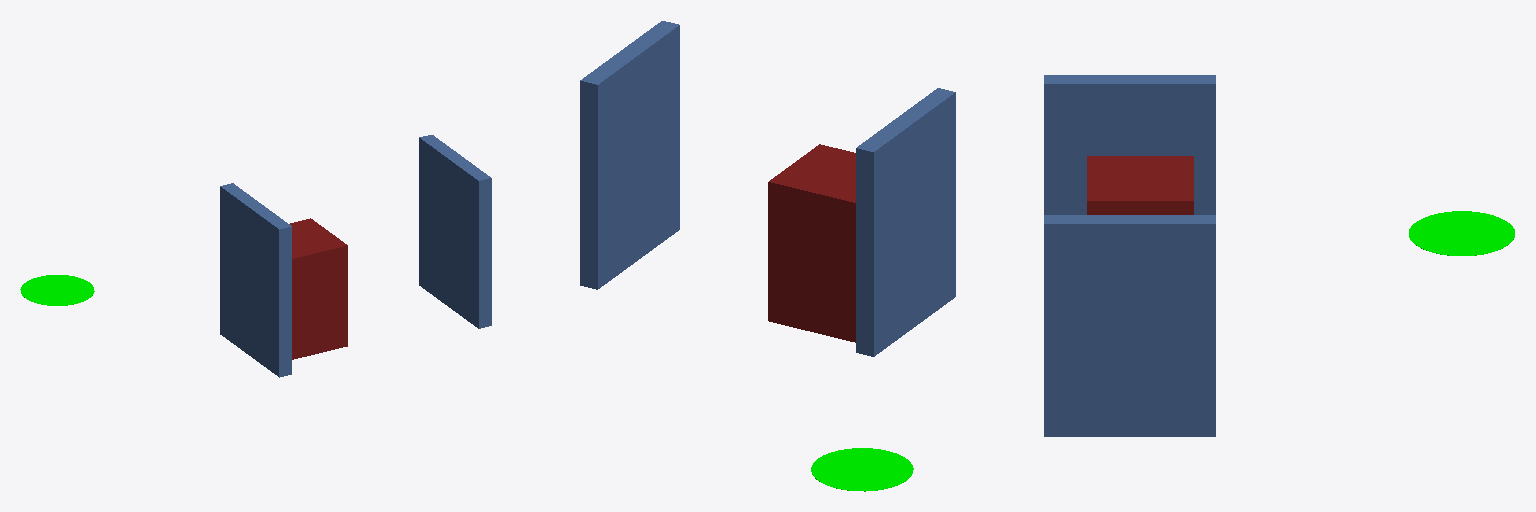
URDF robot description (room2):
<robot name="room2">
    <link name="base_link"/>

    <link name="room">
      <visual>
        <geometry>
          <mesh filename="[local-path]/rb_ws/robowflex/robowflex_dart/include/io/envs/room2/meshes/room.dae" scale=" 0.4 0.4 0.3"/>
        </geometry>
        <origin rpy="0 0 0" xyz="0 0 0"/>
      <material name="">
        <color rgba="0.94901960784 0.94901960784 0.94901960784 1"/>
      </material>
      </visual>

      <collision>
        <geometry>
          <mesh filename="[local-path]/rb_ws/robowflex/robowflex_dart/include/io/envs/room2/meshes/room.dae" scale=" 0.4 0.4 0.3"/>
        </geometry>
        <origin rpy="0 0 0" xyz="0 0 0"/>       
       </collision>
    </link>


     <link name="link_0_joint_0">
      <visual>
        <geometry>
          <box size="0.1 0.8 1.1"/>
        </geometry>
        <origin rpy="0 0 0" xyz="0.0 0.4 0"/>
        <material name="">
          <color rgba="0.349019 0.470588 0.650980 1.0"/>
      </material>
      </visual>
      <collision>
        <geometry>
          <box size="0.1 0.8 1.1"/>
        </geometry>
        <origin rpy="0 0 0" xyz="0.0 0.4 0"/>     
       </collision>
    </link>


  <link name="link_1_joint_0">
      <visual>
        <geometry>
          <box size="0.1 0.8 1.1"/>
        </geometry>
        <origin rpy="0 0 0" xyz="0.0 0.4 0"/>
        <material name="">
          <color rgba="0.349019 0.470588 0.650980 1.0"/>
      </material>
      </visual>
      <collision>
        <geometry>
          <box size="0.1 0.8 1.1"/>
        </geometry>
        <origin rpy="0 0 0" xyz="0.0 0.4 0"/>     
       </collision>
    </link>


    <link name="link_2_joint_0">
      <visual>
        <geometry>
          <box size="0.5 0.5 0.75"/>
        </geometry>
        <origin rpy="0 0 0" xyz="0 0 0"/>
          <material name="">
          <color rgba="0.541176 0.156862 0.156862 1.0"/>
      </material>
      </visual>
      <collision>
        <geometry>
          <box size="0.5 0.5 0.75"/>
        </geometry>
        <origin rpy="0 0 0" xyz="0 0 0"/>      
       </collision>
    </link>
    

<link name="cube1_y_axis"/>


<joint name="room_j" type="fixed">
    <origin rpy="0 0 -1.57" xyz="0 0 0.0"/>
    <parent link="base_link"/>
    <child link="room"/>
    <axis xyz="0 1 0"/>
  </joint>

   <joint name="link_0_joint_0" type="revolute">
      <origin rpy="0 0 0" xyz="1.5 -1.25 0.55"/>
      <parent link="base_link"/>
      <child link="link_0_joint_0"/>
      <axis xyz="0 0 1"/>
      <limit lower="0" upper="1.57" effort="0.05" velocity="1.57"/>
  </joint>

   <joint name="link_1_joint_0" type="revolute">
      <origin rpy="0 0 0" xyz="-0.05 -1.25 0.55"/>
      <parent link="base_link"/>
      <child link="link_1_joint_0"/>
      <axis xyz="0 0 1"/>
      <limit lower="0" upper="1.57" effort="0.05" velocity="1.57"/>
  </joint>


  <joint name="link_2_joint_0" type="prismatic">
      <origin rpy="0 0 0" xyz="0.3 -0.8 0.375"/>
      <parent link="base_link"/>
      <child link="cube1_y_axis"/>
      <axis xyz="0 1 0"/>
      <limit lower="-1.40" upper="2.00" effort="0.05" velocity="1.57"/>
  </joint>


  <joint name="link_2_joint_1" type="prismatic">
      <origin rpy="0 0 0" xyz="0 0 0"/>
      <parent link="cube1_y_axis"/>
      <child link="link_2_joint_0"/>
      <axis xyz="1 0 0"/>
      <limit lower="-1.5" upper="3.00" effort="0.05" velocity="1.57"/>
  </joint>

  <link name="goal">
  <visual>
         <origin xyz="0 0 0" rpy="0 0 0"/>
        <geometry>
          <cylinder radius="0.25" length="0.001"/>
        </geometry>
        <material name="">
          <color rgba="0 1 0 1.0"/>
        </material>
      </visual>
</link>

<joint name="goal" type="fixed">
  <origin rpy="0 0 0" xyz="-0.7 0.7 0"/>
  <parent link="base_link"/>
    <child link="goal"/>
</joint>



</robot>

--- Facts derived from the render (not from the file) ---
Views: 3 orthographic renders of the robot side by side, from view 1: azimuth 30°, elevation 25°; view 2: azimuth 150°, elevation 25°; view 3: azimuth 270°, elevation 25°.
Robot: room2 — 7 links, 6 joints (2 revolute, 2 prismatic, 2 fixed); root link base_link; default pose: all joints at 0.
Links seen in each view (by area): view 1: link_0_joint_0, link_1_joint_0, link_2_joint_0, goal; view 2: link_0_joint_0, link_1_joint_0, link_2_joint_0, goal; view 3: link_0_joint_0, link_1_joint_0, link_2_joint_0, goal.
Link boxes in pixels (x1,y1,x2,y2): link_0_joint_0: (419, 135, 491, 328); link_1_joint_0: (220, 183, 291, 377); link_2_joint_0: (290, 218, 347, 359); goal: (20, 275, 94, 305); link_0_joint_0: (580, 21, 679, 289); link_1_joint_0: (856, 88, 955, 356); link_2_joint_0: (768, 144, 855, 342); goal: (811, 448, 913, 491); link_0_joint_0: (1044, 215, 1215, 436); link_1_joint_0: (1044, 75, 1215, 214); link_2_joint_0: (1087, 156, 1193, 214); goal: (1409, 211, 1514, 255).
Bounding box of the posed robot: 2.5 × 2.2 × 1.1 m (x, y, z).
Geometry: only primitive shapes (box / cylinder / sphere) drawn; not drawn: 1 mesh visual (reference in a form the renderer does not follow).
